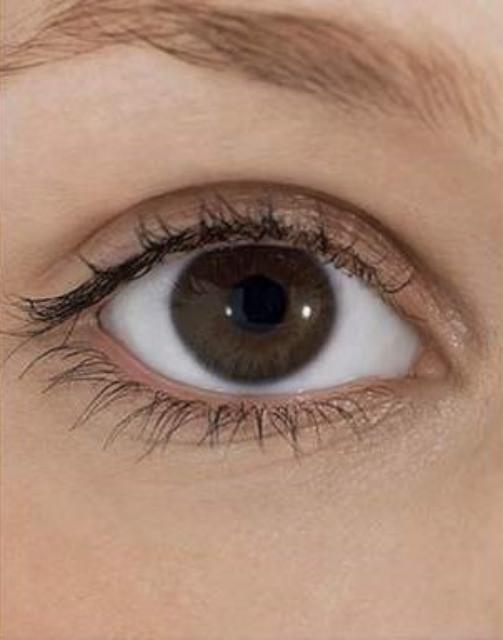eye: (173, 232, 338, 386)
